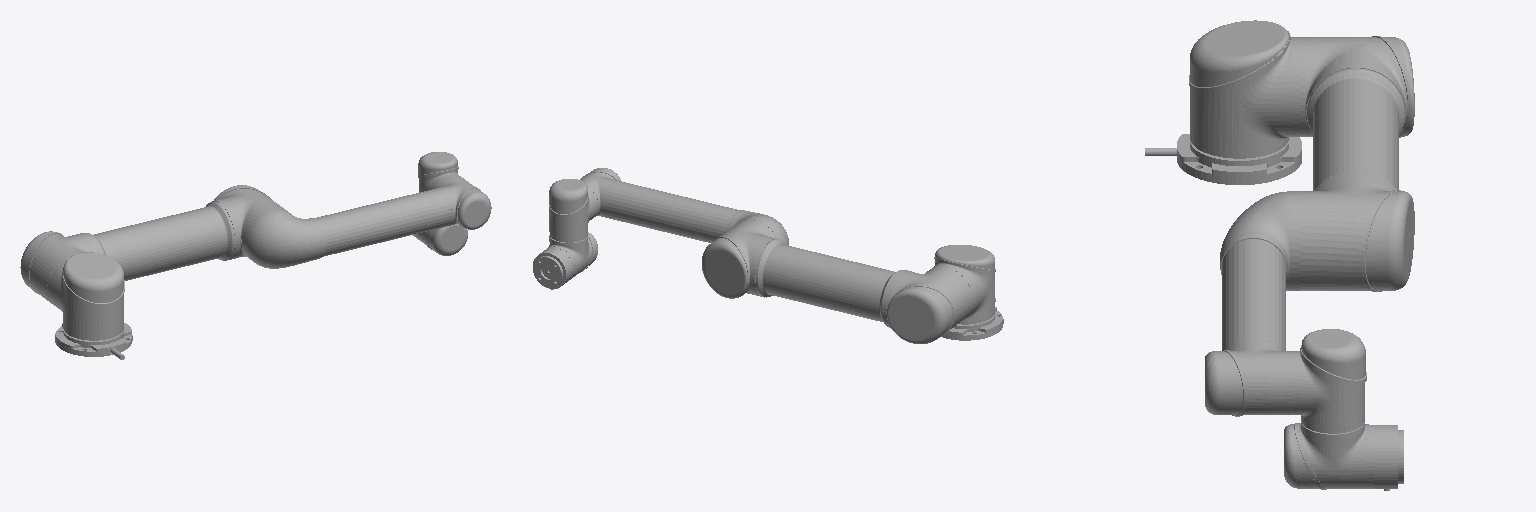
The robot description file, URDF, robot "ur5_robot":
<?xml version="1.0" encoding="utf-8"?>
<robot name="ur5_robot">
  <link name="base_link"/>
  <link name="base_link_inertia">
    <visual>
      <origin xyz="0.0 0.0 0.0" rpy="0.0 0.0 3.141592653589793"/>
      <geometry>
        <mesh filename="package://ur_description/meshes/ur5/visual/base.dae.obj"/>
      </geometry>
      <material name="LightGrey">
        <color rgba="0.7 0.7 0.7 1.0"/>
      </material>
    </visual>
    <collision>
      <origin xyz="0.0 0.0 0.0" rpy="0.0 0.0 3.141592653589793"/>
      <geometry>
        <mesh filename="package://ur_description/meshes/ur5/collision/base.stl"/>
      </geometry>
    </collision>
    <inertial>
      <origin xyz="0.0 0.0 0.0" rpy="0.0 0.0 0.0"/>
      <mass value="4.0"/>
      <inertia ixx="0.00443333156" ixy="0.0" ixz="0.0" iyy="0.00443333156" iyz="0.0" izz="0.0072"/>
    </inertial>
  </link>
  <link name="shoulder_link">
    <visual>
      <origin xyz="0.0 0.0 0.0" rpy="0.0 0.0 3.141592653589793"/>
      <geometry>
        <mesh filename="package://ur_description/meshes/ur5/visual/shoulder.dae.obj"/>
      </geometry>
      <material name="LightGrey">
        <color rgba="0.7 0.7 0.7 1.0"/>
      </material>
    </visual>
    <collision>
      <origin xyz="0.0 0.0 0.0" rpy="0.0 0.0 3.141592653589793"/>
      <geometry>
        <mesh filename="package://ur_description/meshes/ur5/collision/shoulder.stl"/>
      </geometry>
    </collision>
    <inertial>
      <origin xyz="0.0 0.0 0.0" rpy="0.0 0.0 0.0"/>
      <mass value="3.7"/>
      <inertia ixx="0.014972352344389999" ixy="0.0" ixz="0.0" iyy="0.014972352344389999" iyz="0.0" izz="0.01040625"/>
    </inertial>
  </link>
  <link name="upper_arm_link">
    <visual>
      <origin xyz="0.0 0.0 0.13585" rpy="1.5707963267948966 0.0 -1.5707963267948966"/>
      <geometry>
        <mesh filename="package://ur_description/meshes/ur5/visual/upperarm.dae.obj"/>
      </geometry>
      <material name="LightGrey">
        <color rgba="0.7 0.7 0.7 1.0"/>
      </material>
    </visual>
    <collision>
      <origin xyz="0.0 0.0 0.13585" rpy="1.5707963267948966 0.0 -1.5707963267948966"/>
      <geometry>
        <mesh filename="package://ur_description/meshes/ur5/collision/upperarm.stl"/>
      </geometry>
    </collision>
    <inertial>
      <origin xyz="-0.2125 0.0 0.136" rpy="0.0 1.5707963267948966 0.0"/>
      <mass value="8.393"/>
      <inertia ixx="0.1338857818623325" ixy="0.0" ixz="0.0" iyy="0.1338857818623325" iyz="0.0" izz="0.0151074"/>
    </inertial>
  </link>
  <link name="forearm_link">
    <visual>
      <origin xyz="0.0 0.0 0.0165" rpy="1.5707963267948966 0.0 -1.5707963267948966"/>
      <geometry>
        <mesh filename="package://ur_description/meshes/ur5/visual/forearm.dae.obj"/>
      </geometry>
      <material name="LightGrey">
        <color rgba="0.7 0.7 0.7 1.0"/>
      </material>
    </visual>
    <collision>
      <origin xyz="0.0 0.0 0.0165" rpy="1.5707963267948966 0.0 -1.5707963267948966"/>
      <geometry>
        <mesh filename="package://ur_description/meshes/ur5/collision/forearm.stl"/>
      </geometry>
    </collision>
    <inertial>
      <origin xyz="-0.196125 0.0 0.0165" rpy="0.0 1.5707963267948966 0.0"/>
      <mass value="2.275"/>
      <inertia ixx="0.03121679102890359" ixy="0.0" ixz="0.0" iyy="0.03121679102890359" iyz="0.0" izz="0.004095"/>
    </inertial>
  </link>
  <link name="wrist_1_link">
    <visual>
      <origin xyz="0.0 0.0 -0.093" rpy="1.5707963267948966 0.0 0.0"/>
      <geometry>
        <mesh filename="package://ur_description/meshes/ur5/visual/wrist1.dae.obj"/>
      </geometry>
      <material name="LightGrey">
        <color rgba="0.7 0.7 0.7 1.0"/>
      </material>
    </visual>
    <collision>
      <origin xyz="0.0 0.0 -0.093" rpy="1.5707963267948966 0.0 0.0"/>
      <geometry>
        <mesh filename="package://ur_description/meshes/ur5/collision/wrist1.stl"/>
      </geometry>
    </collision>
    <inertial>
      <origin xyz="0.0 0.0 0.0" rpy="0.0 0.0 0.0"/>
      <mass value="1.219"/>
      <inertia ixx="0.0020138887777775" ixy="0.0" ixz="0.0" iyy="0.0020138887777775" iyz="0.0" izz="0.0021942"/>
    </inertial>
  </link>
  <link name="wrist_2_link">
    <visual>
      <origin xyz="0.0 0.0 -0.095" rpy="0.0 0.0 0.0"/>
      <geometry>
        <mesh filename="package://ur_description/meshes/ur5/visual/wrist2.dae.obj"/>
      </geometry>
      <material name="LightGrey">
        <color rgba="0.7 0.7 0.7 1.0"/>
      </material>
    </visual>
    <collision>
      <origin xyz="0.0 0.0 -0.095" rpy="0.0 0.0 0.0"/>
      <geometry>
        <mesh filename="package://ur_description/meshes/ur5/collision/wrist2.stl"/>
      </geometry>
    </collision>
    <inertial>
      <origin xyz="0.0 0.0 0.0" rpy="0.0 0.0 0.0"/>
      <mass value="1.219"/>
      <inertia ixx="0.0018310388509175" ixy="0.0" ixz="0.0" iyy="0.0018310388509175" iyz="0.0" izz="0.0021942"/>
    </inertial>
  </link>
  <link name="wrist_3_link">
    <visual>
      <origin xyz="0.0 0.0 -0.0818" rpy="1.5707963267948966 0.0 0.0"/>
      <geometry>
        <mesh filename="package://ur_description/meshes/ur5/visual/wrist3.dae.obj"/>
      </geometry>
      <material name="LightGrey">
        <color rgba="0.7 0.7 0.7 1.0"/>
      </material>
    </visual>
    <collision>
      <origin xyz="0.0 0.0 -0.0818" rpy="1.5707963267948966 0.0 0.0"/>
      <geometry>
        <mesh filename="package://ur_description/meshes/ur5/collision/wrist3.stl"/>
      </geometry>
    </collision>
    <inertial>
      <origin xyz="0.0 0.0 -0.01525" rpy="0.0 0.0 0.0"/>
      <mass value="0.1879"/>
      <inertia ixx="8.062472608343e-05" ixy="0.0" ixz="0.0" iyy="8.062472608343e-05" iyz="0.0" izz="0.0001321171875"/>
    </inertial>
  </link>
  <link name="base"/>
  <link name="flange"/>
  <link name="tool0"/>
  <joint name="base_link-base_link_inertia" type="fixed">
    <parent link="base_link"/>
    <child link="base_link_inertia"/>
    <axis xyz="1.0 0.0 0.0"/>
    <origin xyz="0.0 0.0 0.0" rpy="0.0 0.0 3.141592653589793"/>
  </joint>
  <joint name="shoulder_pan_joint" type="revolute">
    <parent link="base_link_inertia"/>
    <child link="shoulder_link"/>
    <axis xyz="0.0 0.0 1.0"/>
    <dynamics damping="0.0" friction="0.0"/>
    <limit lower="-6.283185307179586" upper="6.283185307179586" effort="150.0" velocity="3.141592653589793"/>
    <origin xyz="0.0 0.0 0.089159" rpy="0.0 0.0 0.0"/>
  </joint>
  <joint name="shoulder_lift_joint" type="revolute">
    <parent link="shoulder_link"/>
    <child link="upper_arm_link"/>
    <axis xyz="0.0 0.0 1.0"/>
    <dynamics damping="0.0" friction="0.0"/>
    <limit lower="-6.283185307179586" upper="6.283185307179586" effort="150.0" velocity="3.141592653589793"/>
    <origin xyz="0.0 0.0 0.0" rpy="1.570796327 0.0 0.0"/>
  </joint>
  <joint name="elbow_joint" type="revolute">
    <parent link="upper_arm_link"/>
    <child link="forearm_link"/>
    <axis xyz="0.0 0.0 1.0"/>
    <dynamics damping="0.0" friction="0.0"/>
    <limit lower="-3.141592653589793" upper="3.141592653589793" effort="150.0" velocity="3.141592653589793"/>
    <origin xyz="-0.425 0.0 0.0" rpy="0.0 0.0 0.0"/>
  </joint>
  <joint name="wrist_1_joint" type="revolute">
    <parent link="forearm_link"/>
    <child link="wrist_1_link"/>
    <axis xyz="0.0 0.0 1.0"/>
    <dynamics damping="0.0" friction="0.0"/>
    <limit lower="-6.283185307179586" upper="6.283185307179586" effort="28.0" velocity="3.141592653589793"/>
    <origin xyz="-0.39225 0.0 0.10915" rpy="0.0 0.0 0.0"/>
  </joint>
  <joint name="wrist_2_joint" type="revolute">
    <parent link="wrist_1_link"/>
    <child link="wrist_2_link"/>
    <axis xyz="0.0 0.0 1.0"/>
    <dynamics damping="0.0" friction="0.0"/>
    <limit lower="-6.283185307179586" upper="6.283185307179586" effort="28.0" velocity="3.141592653589793"/>
    <origin xyz="0.0 -0.09465 -1.941303950897609e-11" rpy="1.570796327 0.0 0.0"/>
  </joint>
  <joint name="wrist_3_joint" type="revolute">
    <parent link="wrist_2_link"/>
    <child link="wrist_3_link"/>
    <axis xyz="0.0 0.0 1.0"/>
    <dynamics damping="0.0" friction="0.0"/>
    <limit lower="-6.283185307179586" upper="6.283185307179586" effort="28.0" velocity="3.141592653589793"/>
    <origin xyz="0.0 0.0823 -1.688001216681175e-11" rpy="-1.5707963270000003 1.2246467991473532e-16 -1.2246467991473532e-16"/>
  </joint>
  <joint name="base_link-base_fixed_joint" type="fixed">
    <parent link="base_link"/>
    <child link="base"/>
    <axis xyz="1.0 0.0 0.0"/>
    <origin xyz="0.0 0.0 0.0" rpy="0.0 0.0 3.141592653589793"/>
  </joint>
  <joint name="wrist_3-flange" type="fixed">
    <parent link="wrist_3_link"/>
    <child link="flange"/>
    <axis xyz="1.0 0.0 0.0"/>
    <origin xyz="0.0 0.0 0.0" rpy="-1.5707963267948966 -1.5707963267948966 0.0"/>
  </joint>
  <joint name="flange-tool0" type="fixed">
    <parent link="flange"/>
    <child link="tool0"/>
    <axis xyz="1.0 0.0 0.0"/>
    <origin xyz="0.0 0.0 0.0" rpy="1.5707963267948966 0.0 1.5707963267948966"/>
  </joint>
  <transmission name="wrist_3_trans">
    <type>transmission_interface/SimpleTransmission</type>
    <joint name="wrist_3_joint">
      <hardwareInterface>hardware_interface/PositionJointInterface</hardwareInterface>
    </joint>
    <actuator name="wrist_3_motor">
      <mechanicalReduction>1</mechanicalReduction>
    </actuator>
  </transmission>
</robot>

--- What the picture shows (computed from the rendered views, not written in the file) ---
Views: 3 orthographic renders of the robot side by side, from view 1: azimuth 30°, elevation 25°; view 2: azimuth 150°, elevation 25°; view 3: azimuth 270°, elevation 25°.
Robot: ur5_robot — 11 links, 10 joints (6 revolute, 4 fixed); root link base_link; default pose: every joint at zero.
Links seen in each view (by area): view 1: upper_arm_link, forearm_link, shoulder_link, base_link_inertia, wrist_1_link, wrist_2_link; view 2: upper_arm_link, forearm_link, shoulder_link, wrist_1_link, wrist_3_link, wrist_2_link, base_link_inertia; view 3: upper_arm_link, forearm_link, shoulder_link, wrist_1_link, wrist_2_link, base_link_inertia, wrist_3_link.
Boxes of the visible links, bbox=[...] form: upper_arm_link: bbox=[20, 185, 283, 305]; forearm_link: bbox=[243, 175, 491, 268]; shoulder_link: bbox=[49, 252, 124, 340]; base_link_inertia: bbox=[55, 323, 132, 359]; wrist_1_link: bbox=[418, 152, 458, 192]; wrist_2_link: bbox=[413, 224, 467, 255]; upper_arm_link: bbox=[702, 220, 972, 343]; forearm_link: bbox=[580, 168, 788, 245]; shoulder_link: bbox=[933, 245, 995, 324]; wrist_1_link: bbox=[549, 179, 597, 242]; wrist_3_link: bbox=[533, 248, 572, 289]; wrist_2_link: bbox=[547, 232, 597, 279]; base_link_inertia: bbox=[942, 298, 1003, 340]; upper_arm_link: bbox=[1300, 36, 1414, 291]; forearm_link: bbox=[1205, 191, 1299, 416]; shoulder_link: bbox=[1189, 20, 1299, 158]; wrist_1_link: bbox=[1294, 329, 1366, 433]; wrist_2_link: bbox=[1284, 422, 1373, 489]; base_link_inertia: bbox=[1145, 134, 1301, 184]; wrist_3_link: bbox=[1374, 425, 1403, 490].
Size in the robot's own frame: 0.9295 by 0.3144 by 0.2062 metres.
Meshes: 7 distinct files referenced, 7 mesh visuals loaded (7 OBJ).